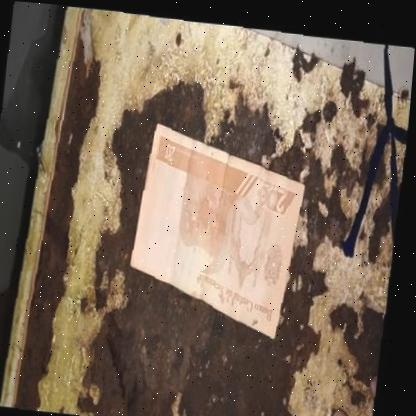twenty-back-vef: (128, 118, 312, 335)
